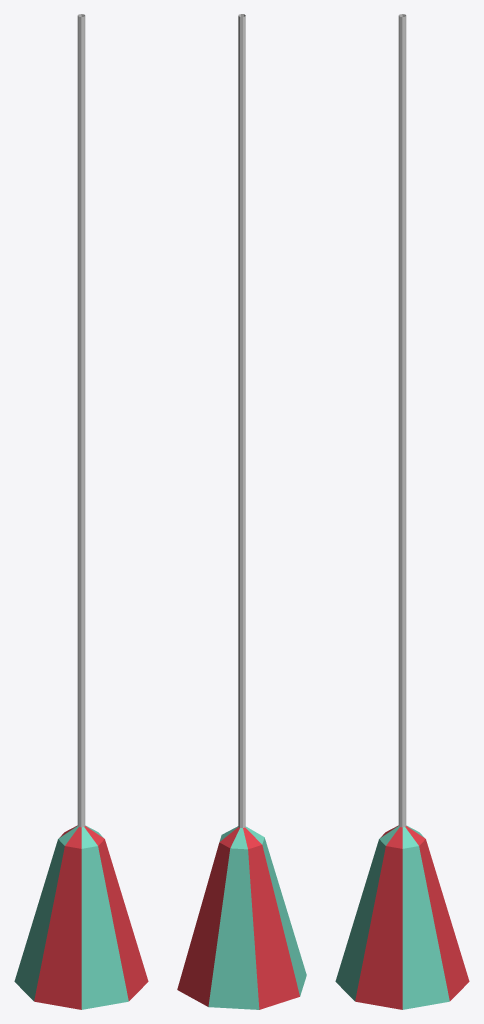
The model's file is Lamp.fbx.
The picture shows the model from 3 angles, left to right: view 1: azimuth 90°, elevation 25°; view 2: azimuth 150°, elevation 25°; view 3: azimuth 270°, elevation 25°; orthographic projection.
Visible parts, largest first — view 1: Cylinder; view 2: Cylinder; view 3: Cylinder.
Boxes of the visible parts, left/top/right/bottom form: Cylinder: left=14, top=14, right=148, bottom=1009; Cylinder: left=177, top=14, right=306, bottom=1009; Cylinder: left=335, top=14, right=469, bottom=1009.
Bounding box in the file's own units: 28.17 × 224 × 28.17.
